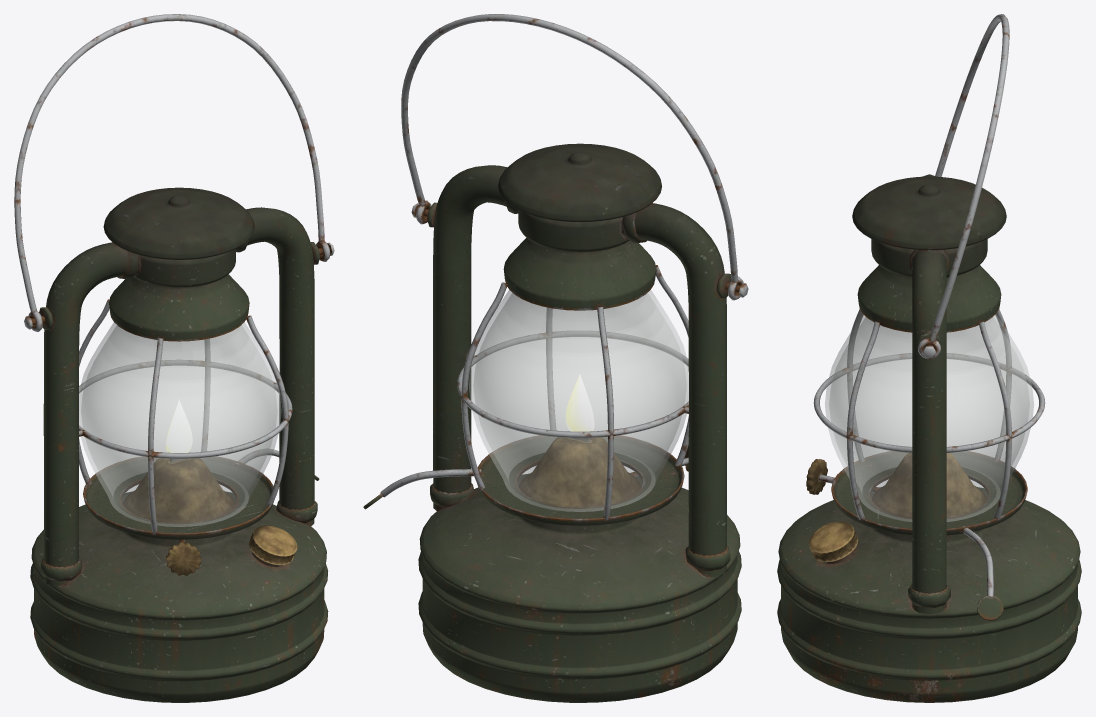
The model's file is lamp.glb.
3 renders of one model, left to right at view 1: azimuth 30°, elevation 25°; view 2: azimuth 150°, elevation 25°; view 3: azimuth 270°, elevation 25°, orthographic. The views are drawn at different scales.
Parts seen in each view (by area): view 1: Lamp, Glass, Flame; view 2: Lamp, Glass, Flame; view 3: Lamp, Glass.
Boxes of the visible parts, x1,y1,x2,y2 form: Lamp: [14, 14, 334, 702]; Glass: [79, 322, 281, 526]; Flame: [166, 400, 192, 452]; Lamp: [363, 14, 748, 702]; Glass: [469, 290, 688, 511]; Flame: [565, 374, 594, 431]; Lamp: [777, 14, 1081, 702]; Glass: [825, 314, 1033, 521].
Size of the model in its own units: 0.1986 by 0.3561 by 0.1601.
Materials: 3 (2 with a texture image).
